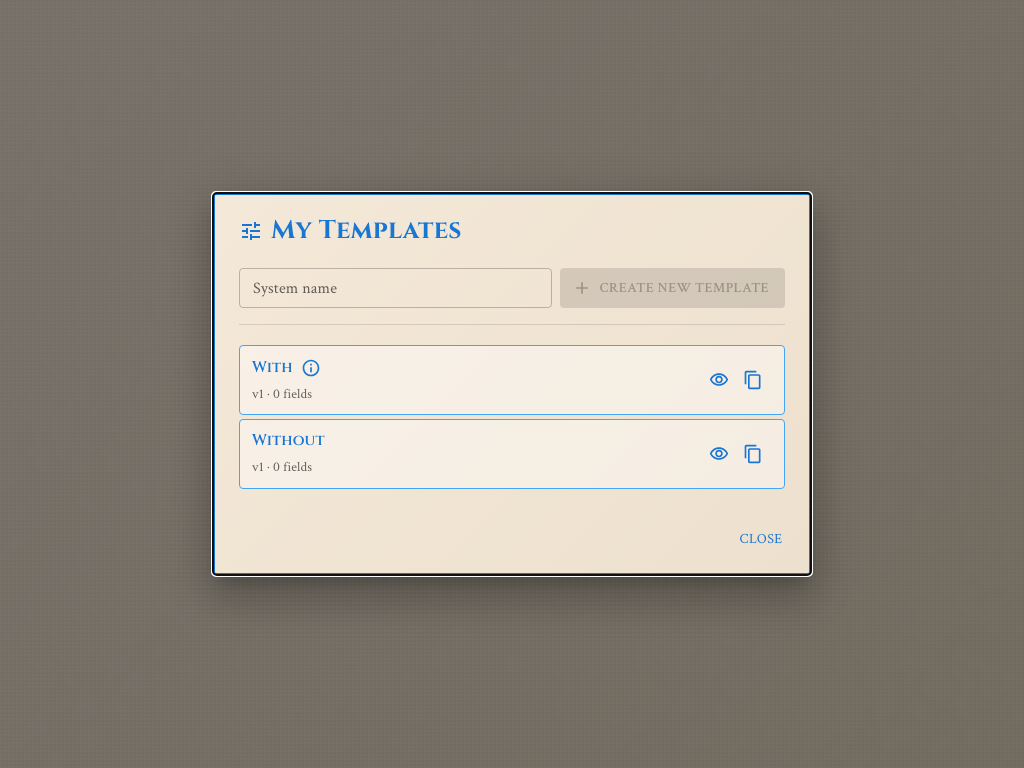
Test case: only a template with a description gets the info icon, which opens it
Expected: the number of icons with test id "InfoOutlinedIcon" is 1, [301,358,321,378]
Click the button with test id "InfoOutlinedIcon" at (311, 368), box [299,356,323,380]
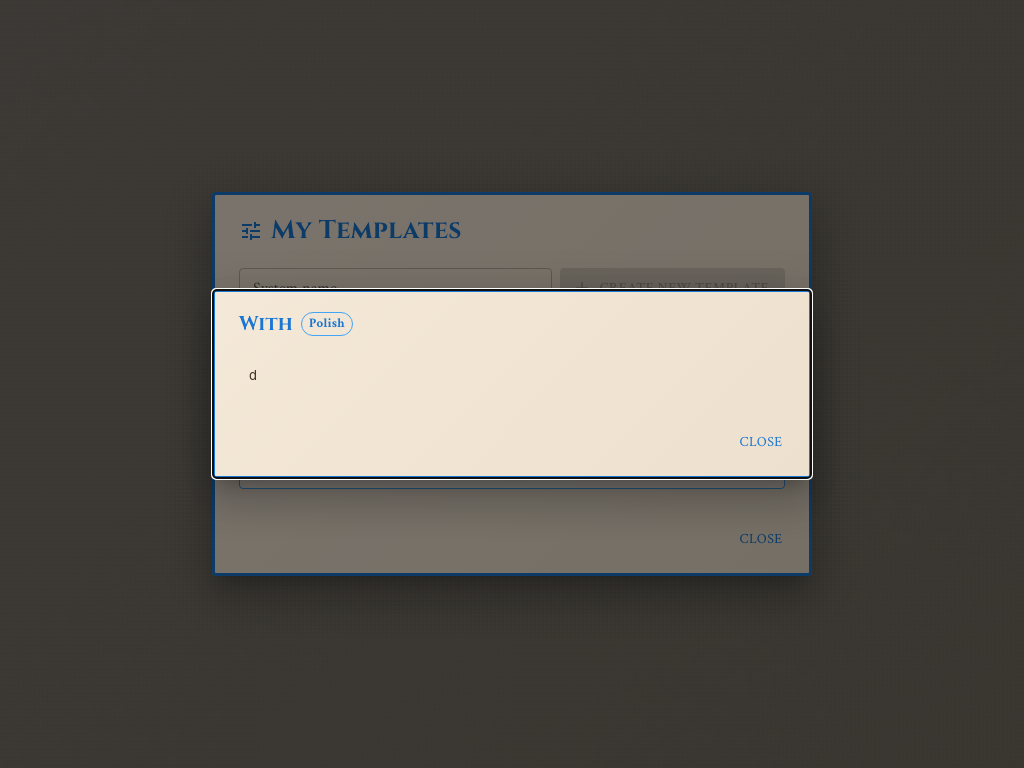
Result: the dialog shows "With" at [239,310,293,337]
